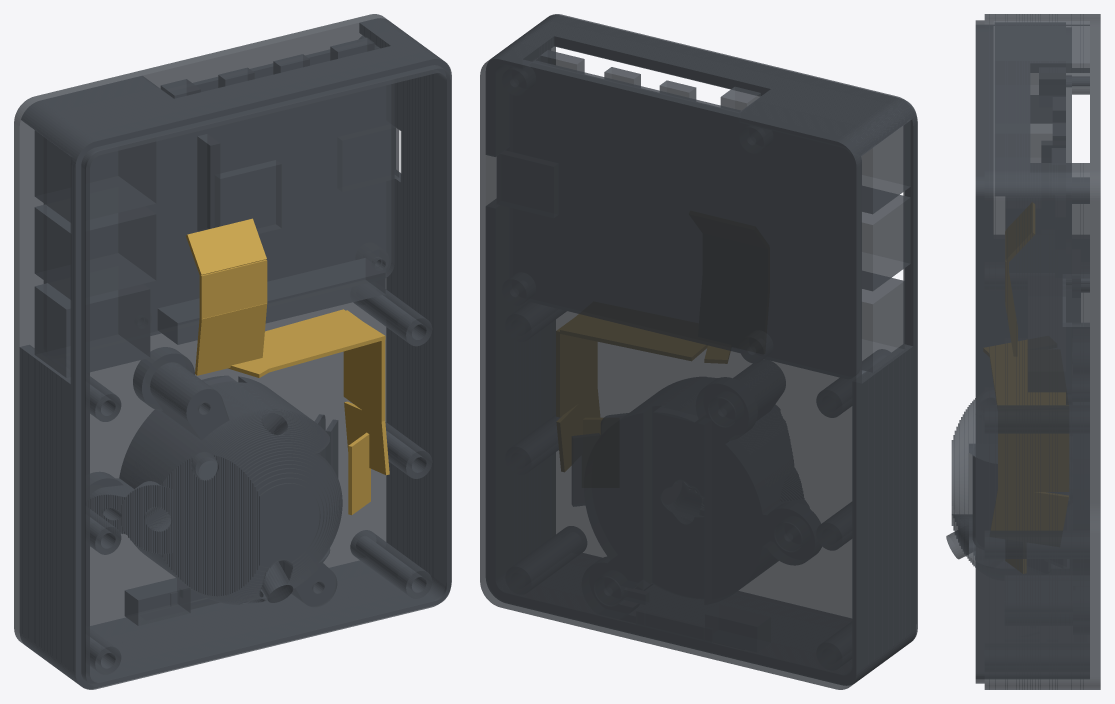
Rendered from step5.glb.
The picture shows the model from 3 angles, left to right: view 1: azimuth 30°, elevation 25°; view 2: azimuth 150°, elevation 25°; view 3: azimuth 270°, elevation 25°; orthographic projection. The views are drawn at different scales.
Parts seen in each view (by area): view 1: shell_lower, mock_pi4b, optical_head, mock_csi_ribbon, mock_switch, mock_laser, mock_camera; view 2: shell_lower, mock_pi4b, optical_head, mock_csi_ribbon, mock_switch, mock_camera; view 3: shell_lower, mock_pi4b, optical_head, mock_csi_ribbon, mock_camera, mock_laser.
Boxes of the visible parts, x1,y1,x2,y2 form: shell_lower: (14, 14, 451, 689); mock_pi4b: (34, 37, 399, 377); optical_head: (86, 347, 342, 607); mock_csi_ribbon: (186, 218, 389, 515); mock_switch: (124, 578, 190, 625); mock_laser: (262, 561, 293, 602); mock_camera: (314, 414, 338, 479); shell_lower: (480, 14, 917, 689); mock_pi4b: (497, 50, 910, 378); optical_head: (582, 360, 821, 618); mock_csi_ribbon: (556, 314, 729, 471); mock_switch: (705, 605, 770, 651); mock_camera: (572, 413, 681, 505); shell_lower: (975, 14, 1100, 689); mock_pi4b: (996, 23, 1080, 404); optical_head: (951, 329, 1089, 634); mock_csi_ribbon: (984, 203, 1068, 573); mock_camera: (972, 448, 1066, 574); mock_laser: (946, 523, 974, 559).
Size of the model in its own units: 92 by 128 by 34.61.
